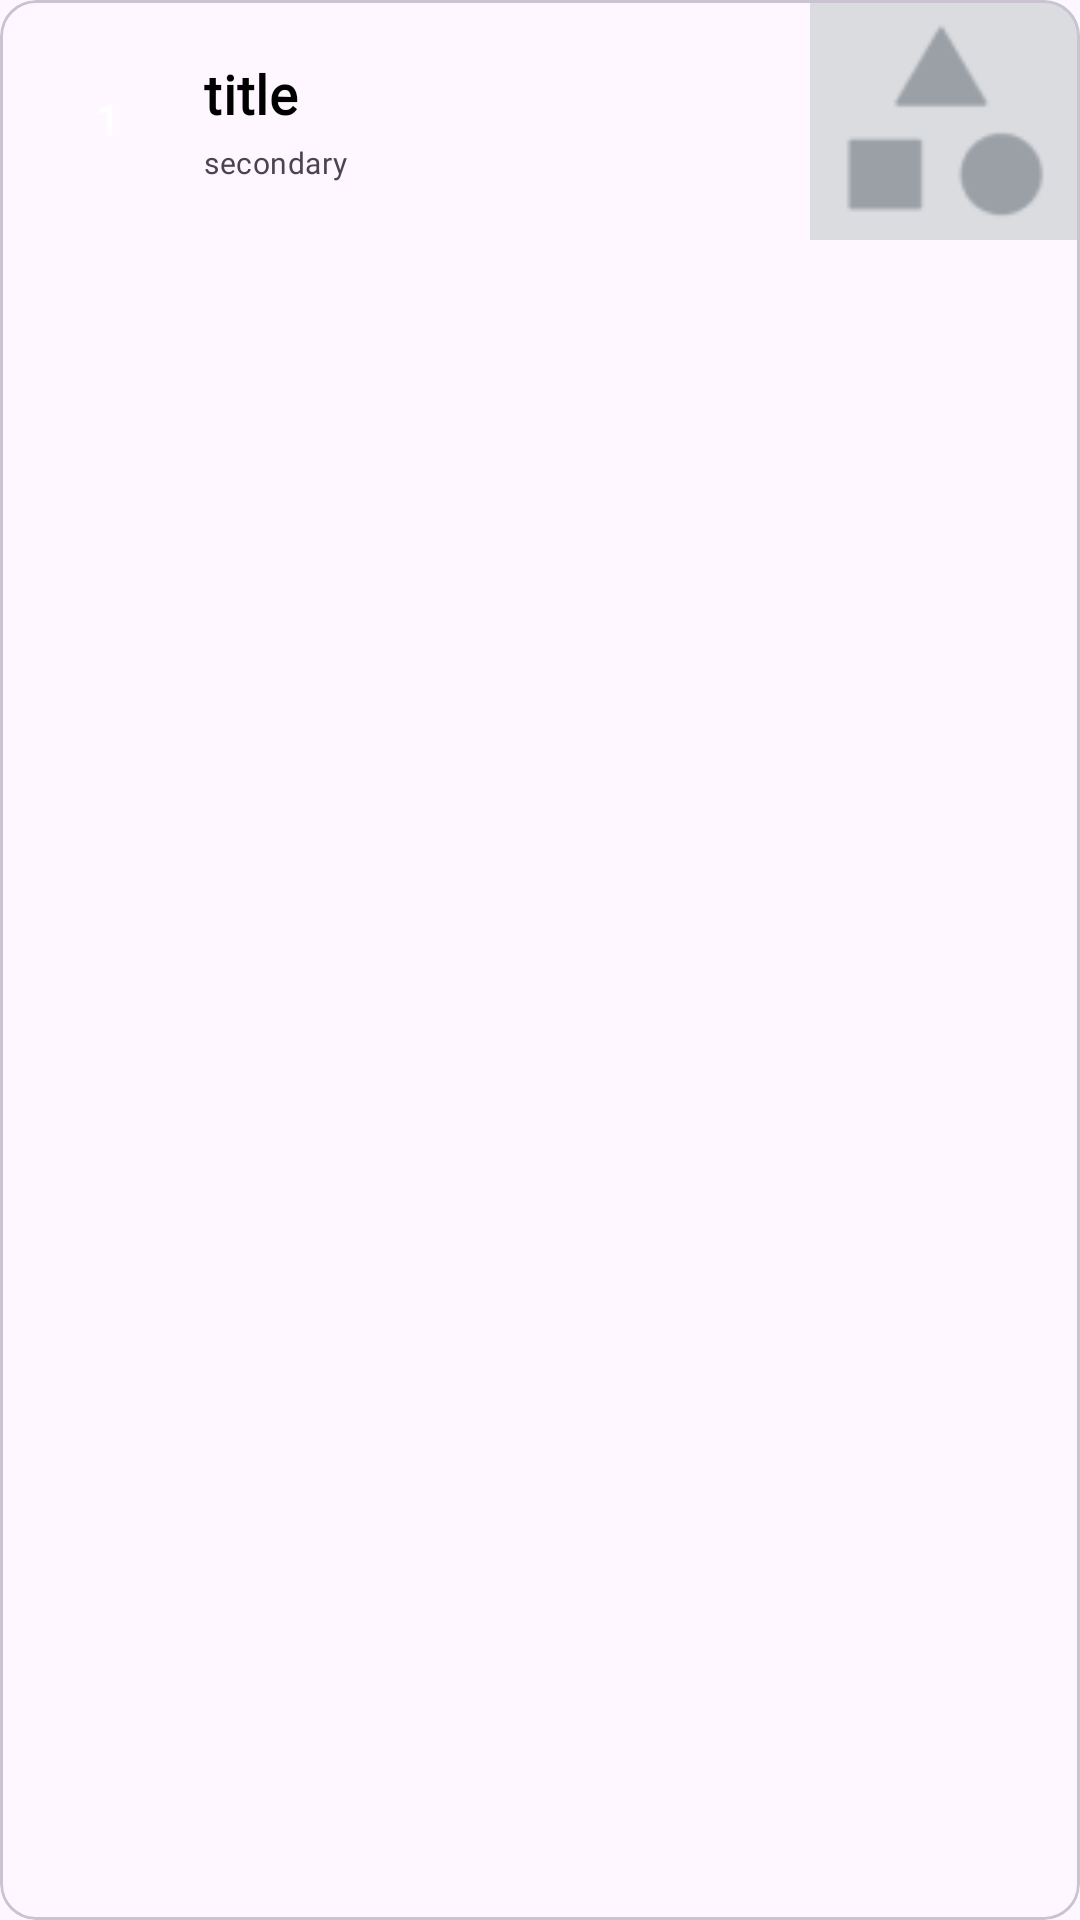

Icon click points for this 1080px x 1920px phone screenshot, format [x,y]:
media: [945,120]
